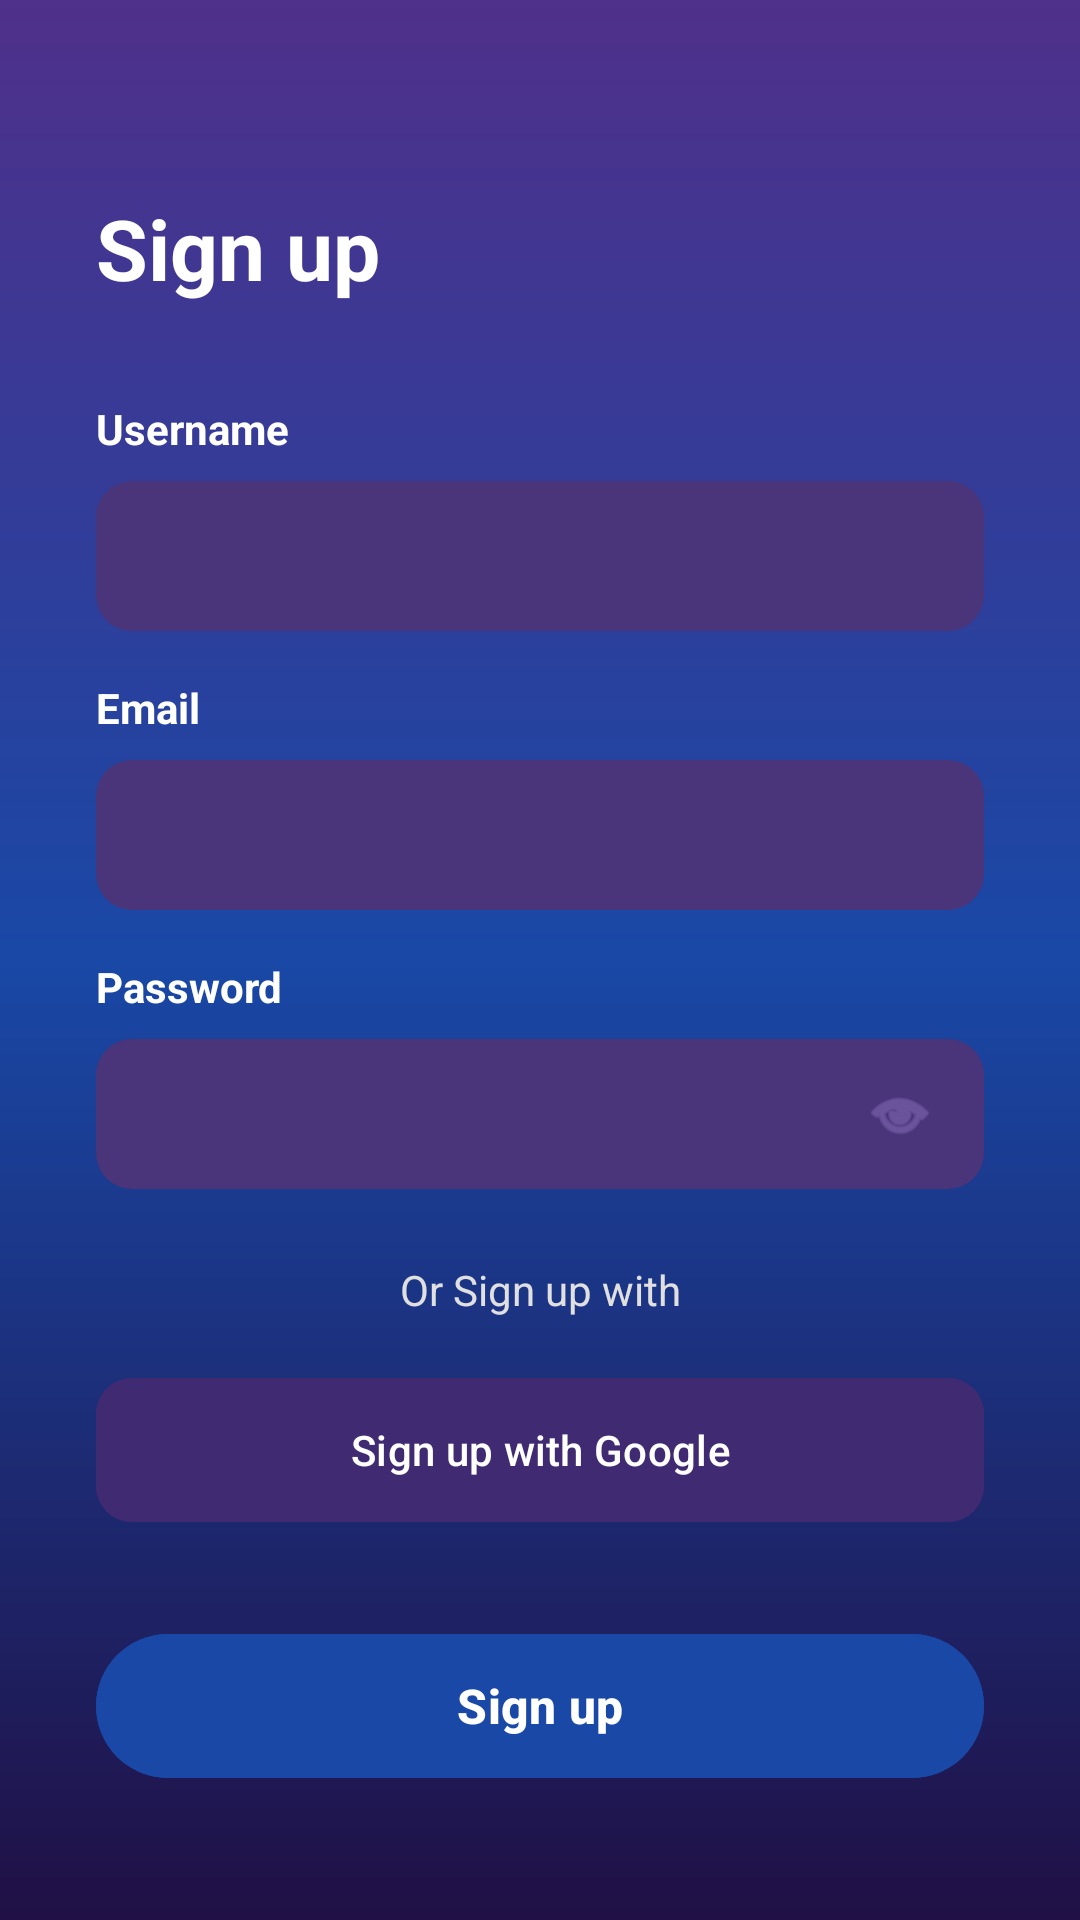

Named icons in this screenshot (1080x1920) and their bounding boxes, (x1, y1, x2, y2):
view: (872, 1099, 928, 1133)
